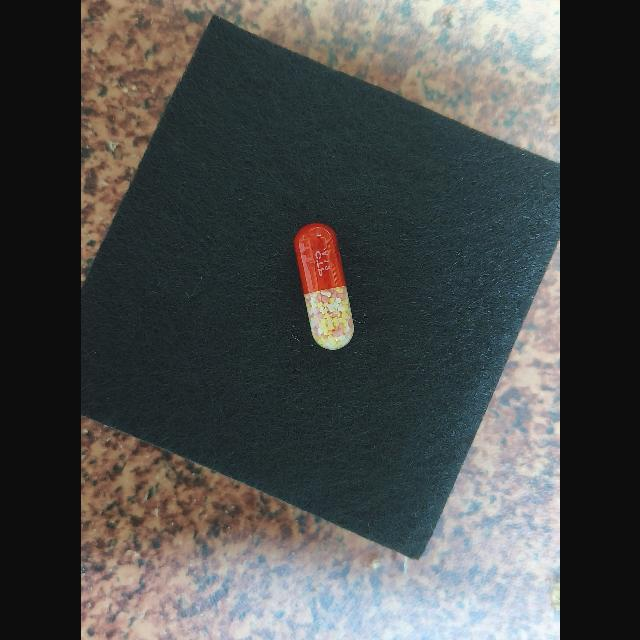Intact Capsule: (293, 223, 353, 350)
